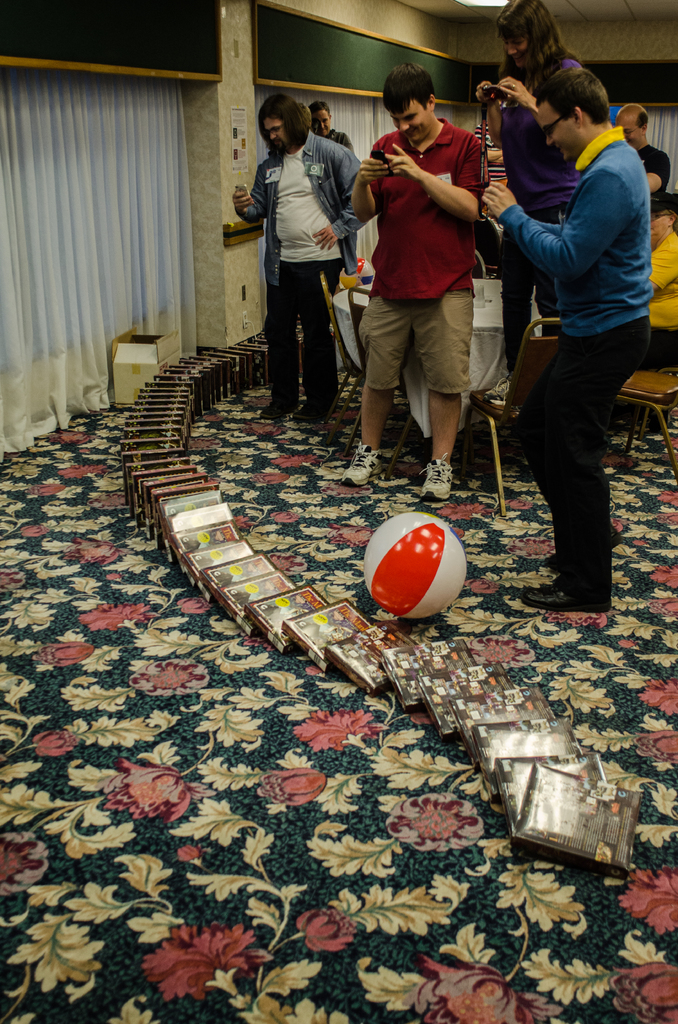Ball: (361, 511, 473, 618)
